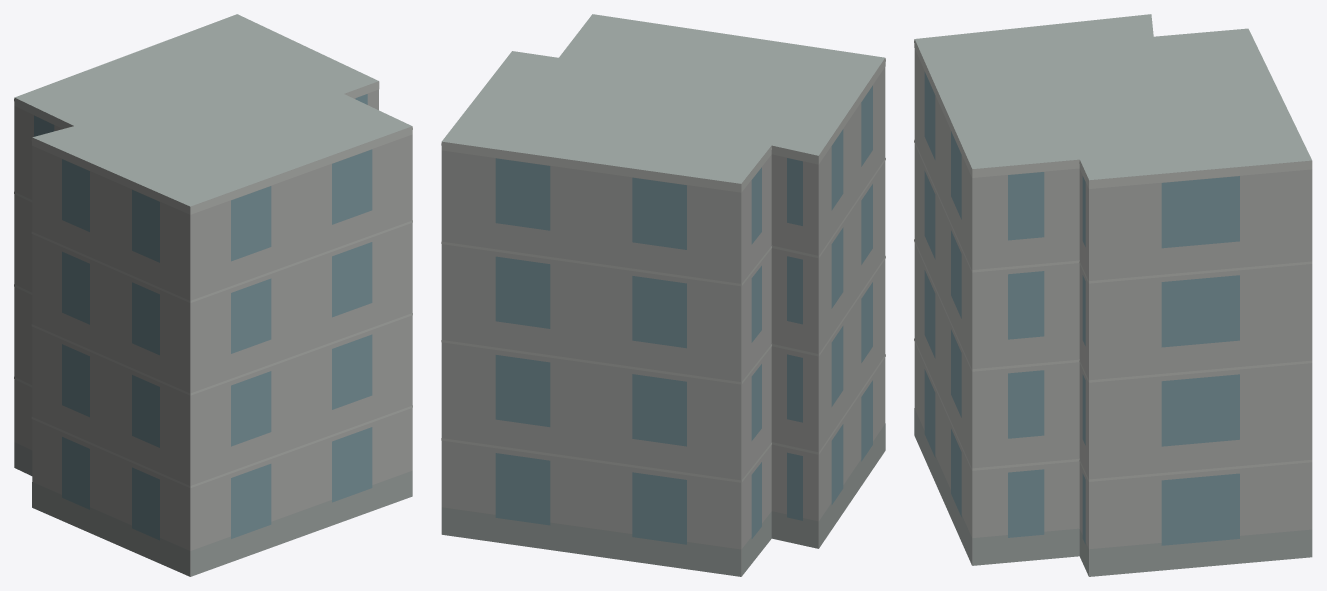
File: survey-upis-33031304.glb
3 renders of one model, left to right at view 1: azimuth 30°, elevation 25°; view 2: azimuth 150°, elevation 25°; view 3: azimuth 270°, elevation 25°, orthographic. The views are drawn at different scales.
Visible parts, largest first — view 1: survey-upis-33031304.tmp; view 2: survey-upis-33031304.tmp; view 3: survey-upis-33031304.tmp.
Part boxes in pixels (x1=…): survey-upis-33031304.tmp: x1=14, y1=14, x2=412, y2=576; survey-upis-33031304.tmp: x1=441, y1=14, x2=885, y2=576; survey-upis-33031304.tmp: x1=914, y1=14, x2=1312, y2=576.
Size of the model in its own units: 9.82 by 10.9 by 9.93.
